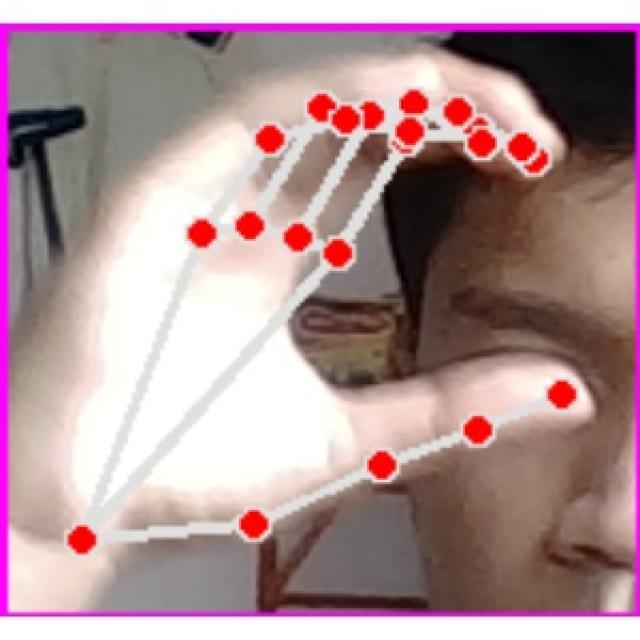C: (12, 31, 601, 590)
